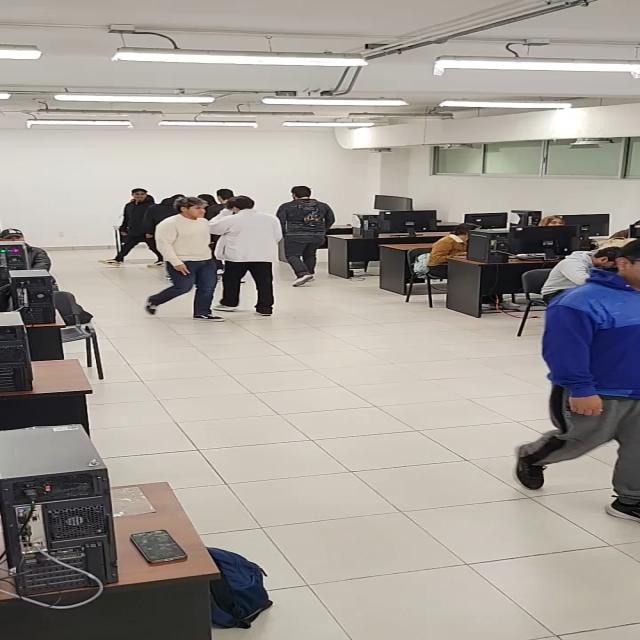Persona: (513, 237, 640, 526), (145, 197, 226, 322), (205, 195, 283, 317), (273, 186, 336, 288), (98, 188, 166, 268)
